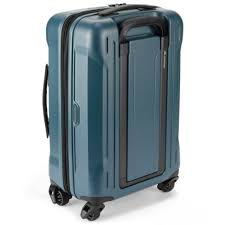suitcase: (39, 1, 185, 222)
